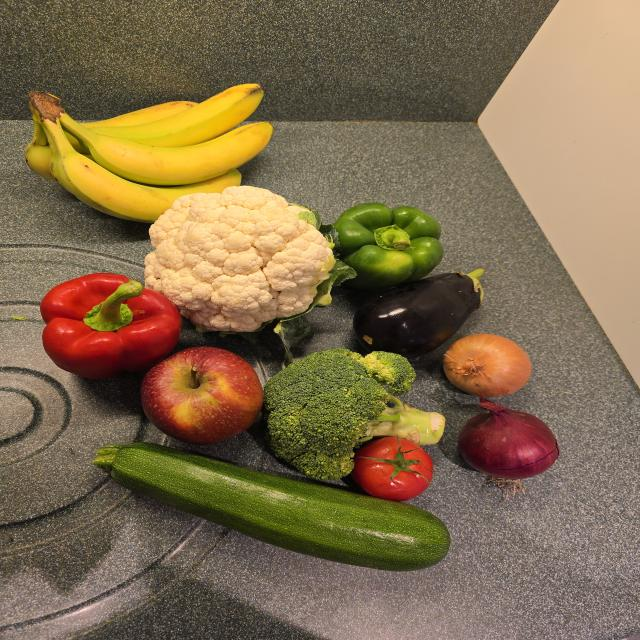Apple: (141, 347, 263, 444)
Banana: (25, 84, 273, 222)
Bell Pepper: (40, 274, 181, 379), (334, 203, 443, 288)
Broccoli: (264, 349, 444, 480)
Cauliflower: (145, 186, 335, 332)
Courgette: (96, 443, 451, 571)
Eggplant: (354, 267, 486, 361)
Onion: (458, 398, 559, 479), (443, 334, 531, 397)
Tomato: (351, 436, 433, 501)
